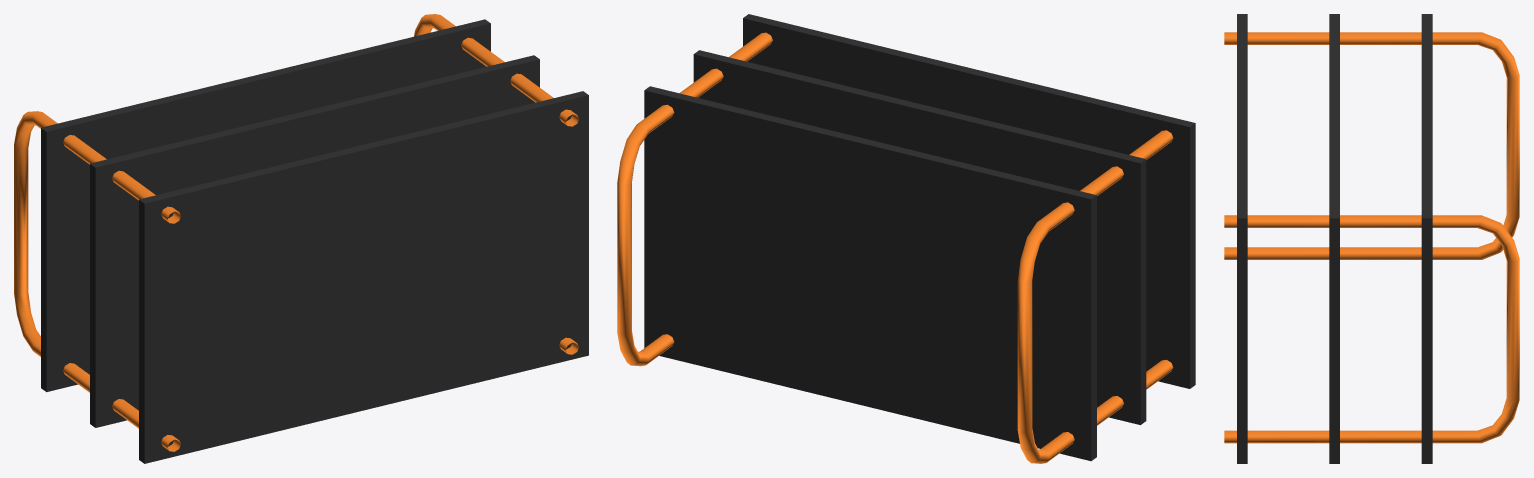
Rendered from HuoJia1_Mo.fbx.
The picture shows the model from 3 angles, left to right: view 1: azimuth 30°, elevation 25°; view 2: azimuth 150°, elevation 25°; view 3: azimuth 270°, elevation 25°; orthographic projection. The views are drawn at different scales.
Visible parts, largest first — view 1: Box037; view 2: Box037; view 3: Box037.
Boxes of the visible parts, bbox=[...] form: Box037: bbox=[14, 14, 588, 463]; Box037: bbox=[617, 14, 1195, 463]; Box037: bbox=[1224, 14, 1519, 463].
Size of the model in its own units: 1210 by 677 by 739.
1 material, 1 textured.
